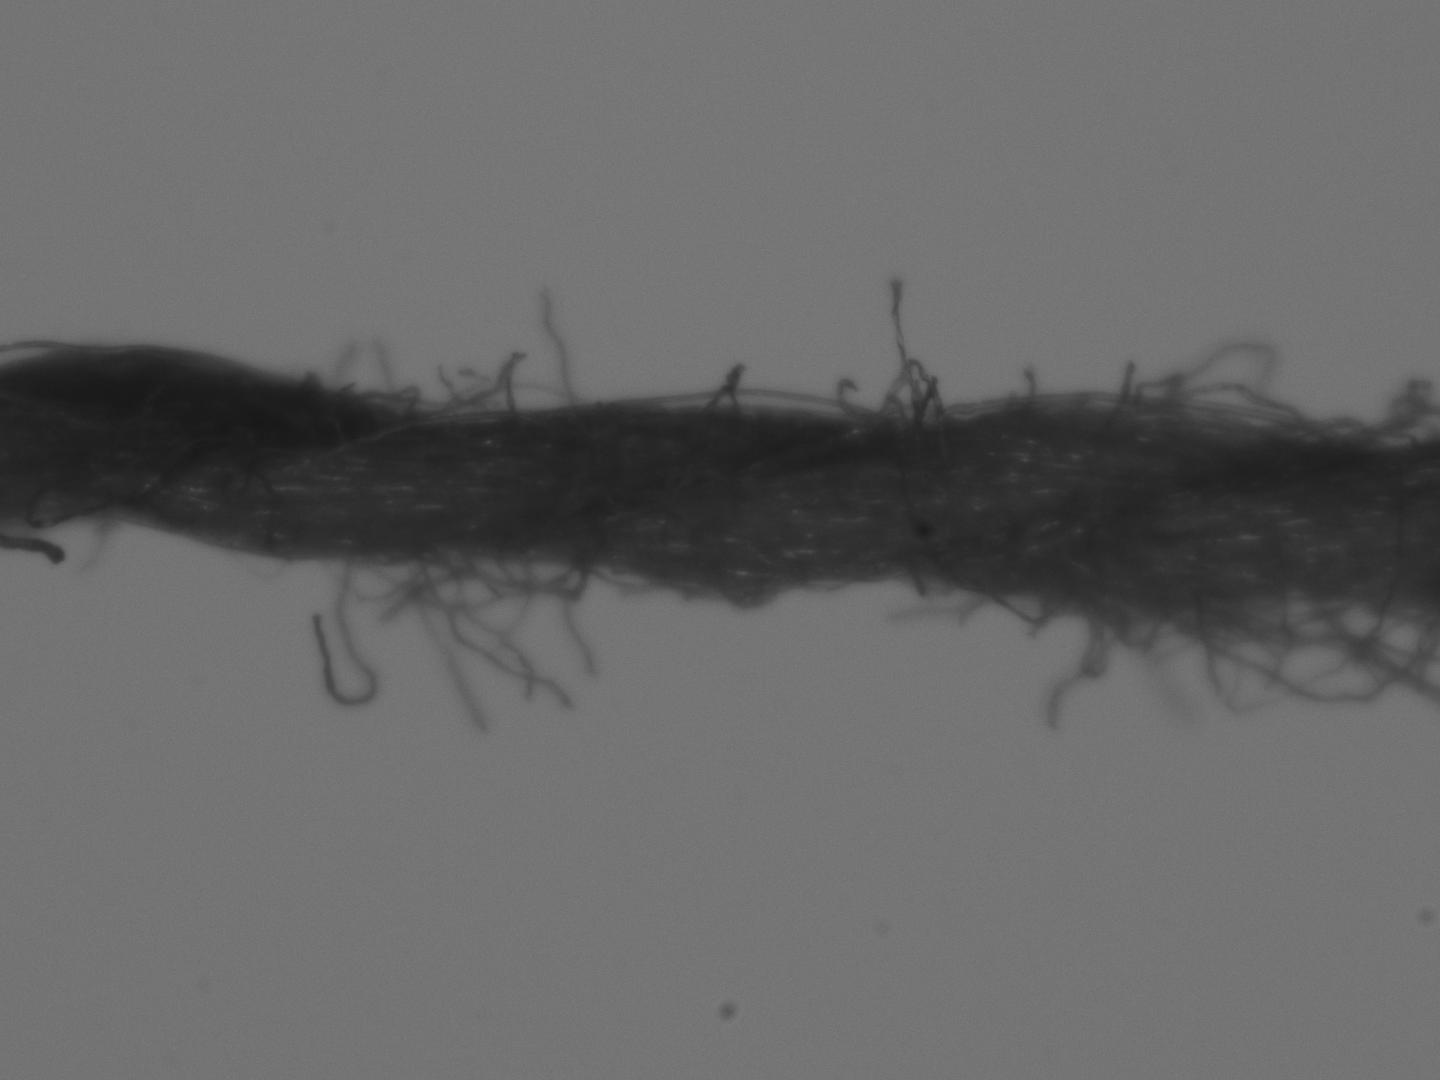loop_fiber: (912, 574, 1439, 731), (319, 548, 664, 735), (1120, 343, 1437, 448), (303, 345, 600, 422), (838, 281, 994, 417), (692, 361, 751, 414)
protruding_fiber: (306, 554, 384, 708), (534, 280, 578, 415), (560, 556, 594, 674), (0, 533, 68, 568)
